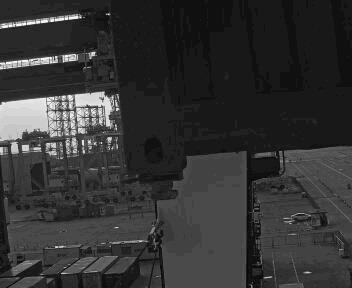twist_lock_1: (128, 168, 187, 206)
